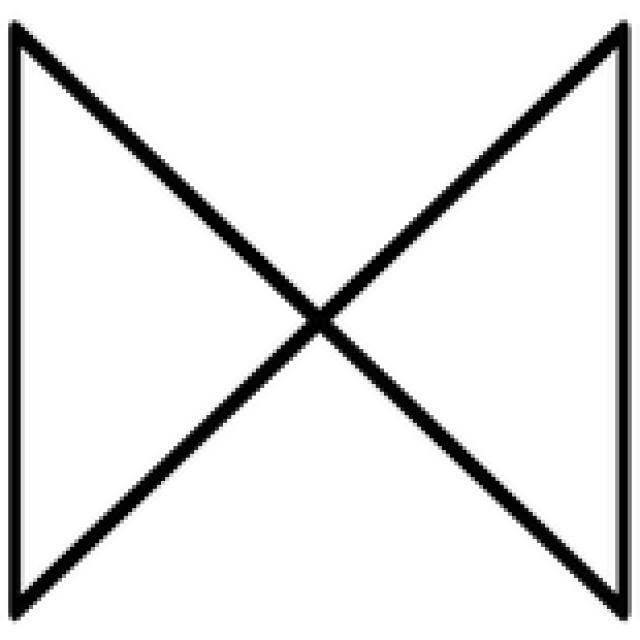Gate valve: (13, 25, 634, 605)
